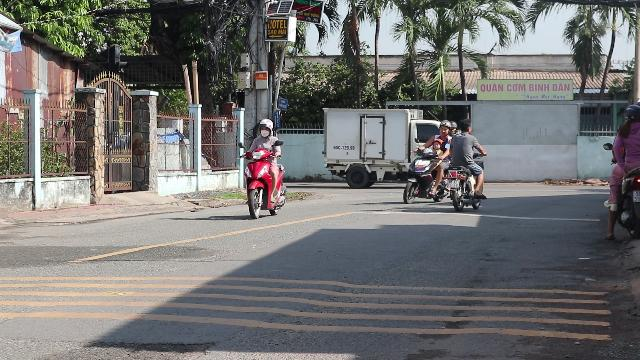helmet: (258, 118, 274, 138), (624, 104, 640, 124)
motorcyclist: (604, 104, 640, 241), (240, 118, 288, 219)
